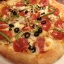olives: (8, 22, 19, 35), (31, 26, 44, 36), (8, 7, 18, 16), (23, 31, 30, 40), (21, 7, 28, 16)
pepperoni: (10, 37, 29, 51), (37, 19, 52, 31), (30, 11, 43, 24), (51, 31, 63, 42)
pizza: (1, 2, 61, 63)
